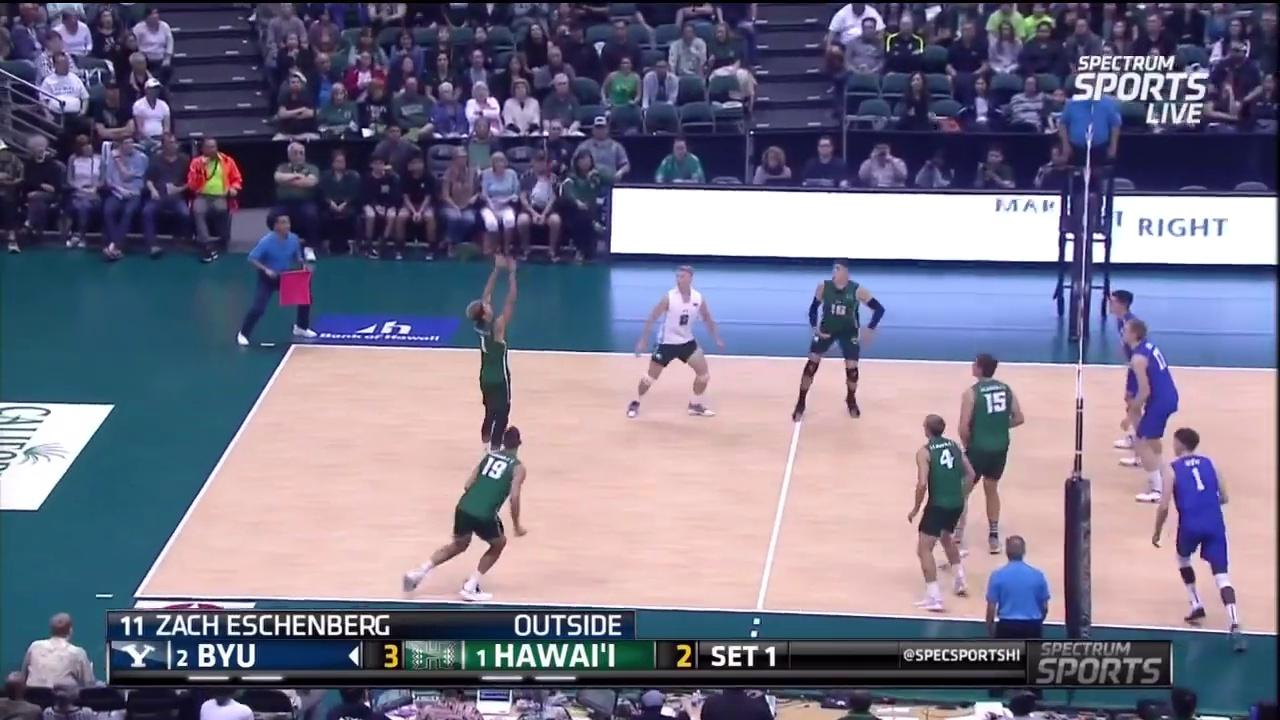player: (408, 419, 534, 606), (902, 408, 983, 616), (622, 262, 725, 422), (1151, 428, 1234, 626), (789, 258, 884, 423), (954, 348, 1025, 551), (461, 245, 528, 460), (1115, 313, 1175, 506), (1106, 282, 1161, 463)
refree: (979, 531, 1052, 695), (238, 208, 319, 350), (1060, 64, 1120, 235)
